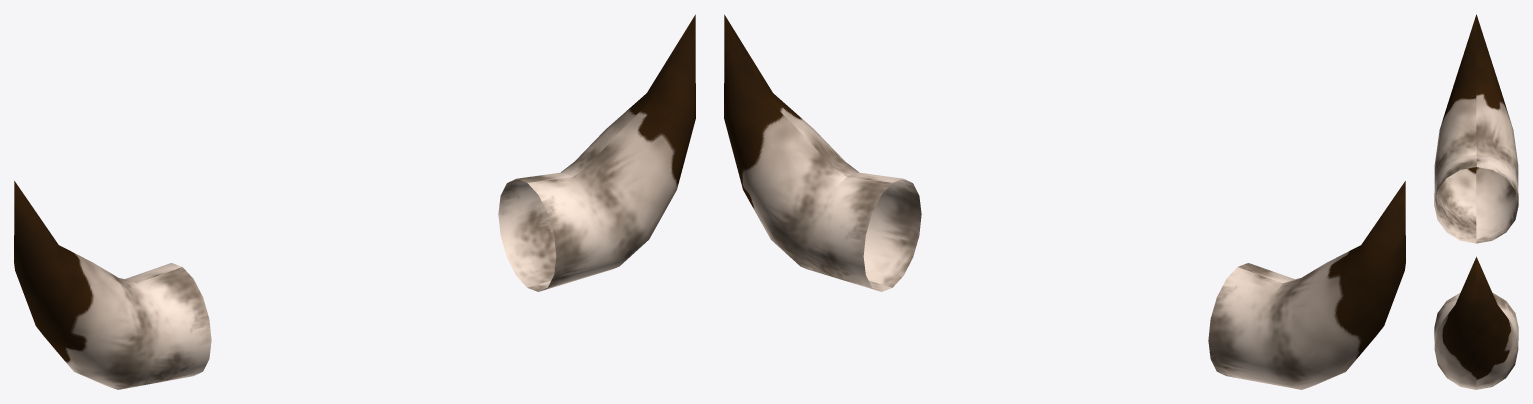
The model's file is ChifreDeVaca.fbx.
3 views of the same model, side by side, from view 1: azimuth 30°, elevation 25°; view 2: azimuth 150°, elevation 25°; view 3: azimuth 270°, elevation 25° (orthographic). The views are drawn at different scales.
Visible parts, largest first — view 1: ChifreDeVaca; view 2: ChifreDeVaca; view 3: ChifreDeVaca.
Part boxes in pixels (x1,y1,x2,y2): ChifreDeVaca: (14,14,695,389); ChifreDeVaca: (724,14,1405,389); ChifreDeVaca: (1434,14,1518,389).
Size of the model in its own units: 349 by 114 by 51.39.
